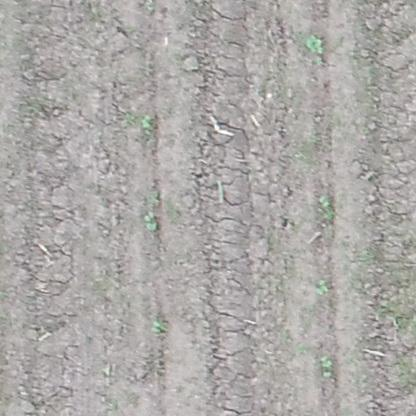vc: (305, 32, 328, 54), (320, 355, 336, 378), (145, 209, 158, 232), (314, 280, 331, 296), (319, 193, 334, 210), (150, 320, 165, 334), (141, 111, 152, 129)
